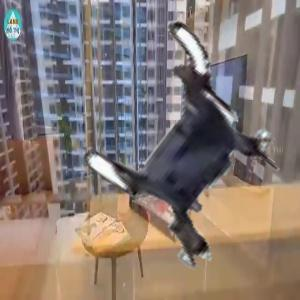drone: (79, 39, 296, 256)
